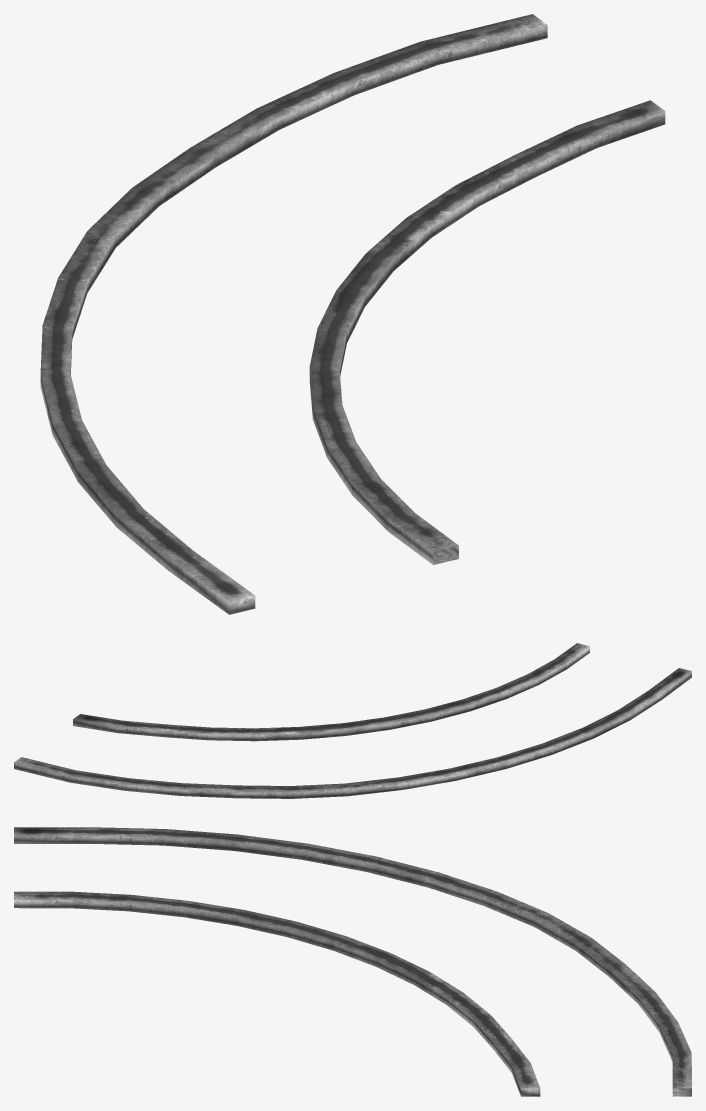
File: tracks_curve.fbx
The picture shows the model from 3 angles, top to bottom: view 1: azimuth 30°, elevation 25°; view 2: azimuth 150°, elevation 25°; view 3: azimuth 270°, elevation 25°; orthographic projection. The views are drawn at different scales.
Visible parts, largest first — view 1: Box009; view 2: Box009; view 3: Box009.
Boxes of the visible parts, box(x1,y1,x2,y2) form: Box009: box(40, 14, 665, 614); Box009: box(14, 643, 691, 798); Box009: box(14, 827, 691, 1096).
Size of the model in its own units: 219 by 3.33 by 240.
